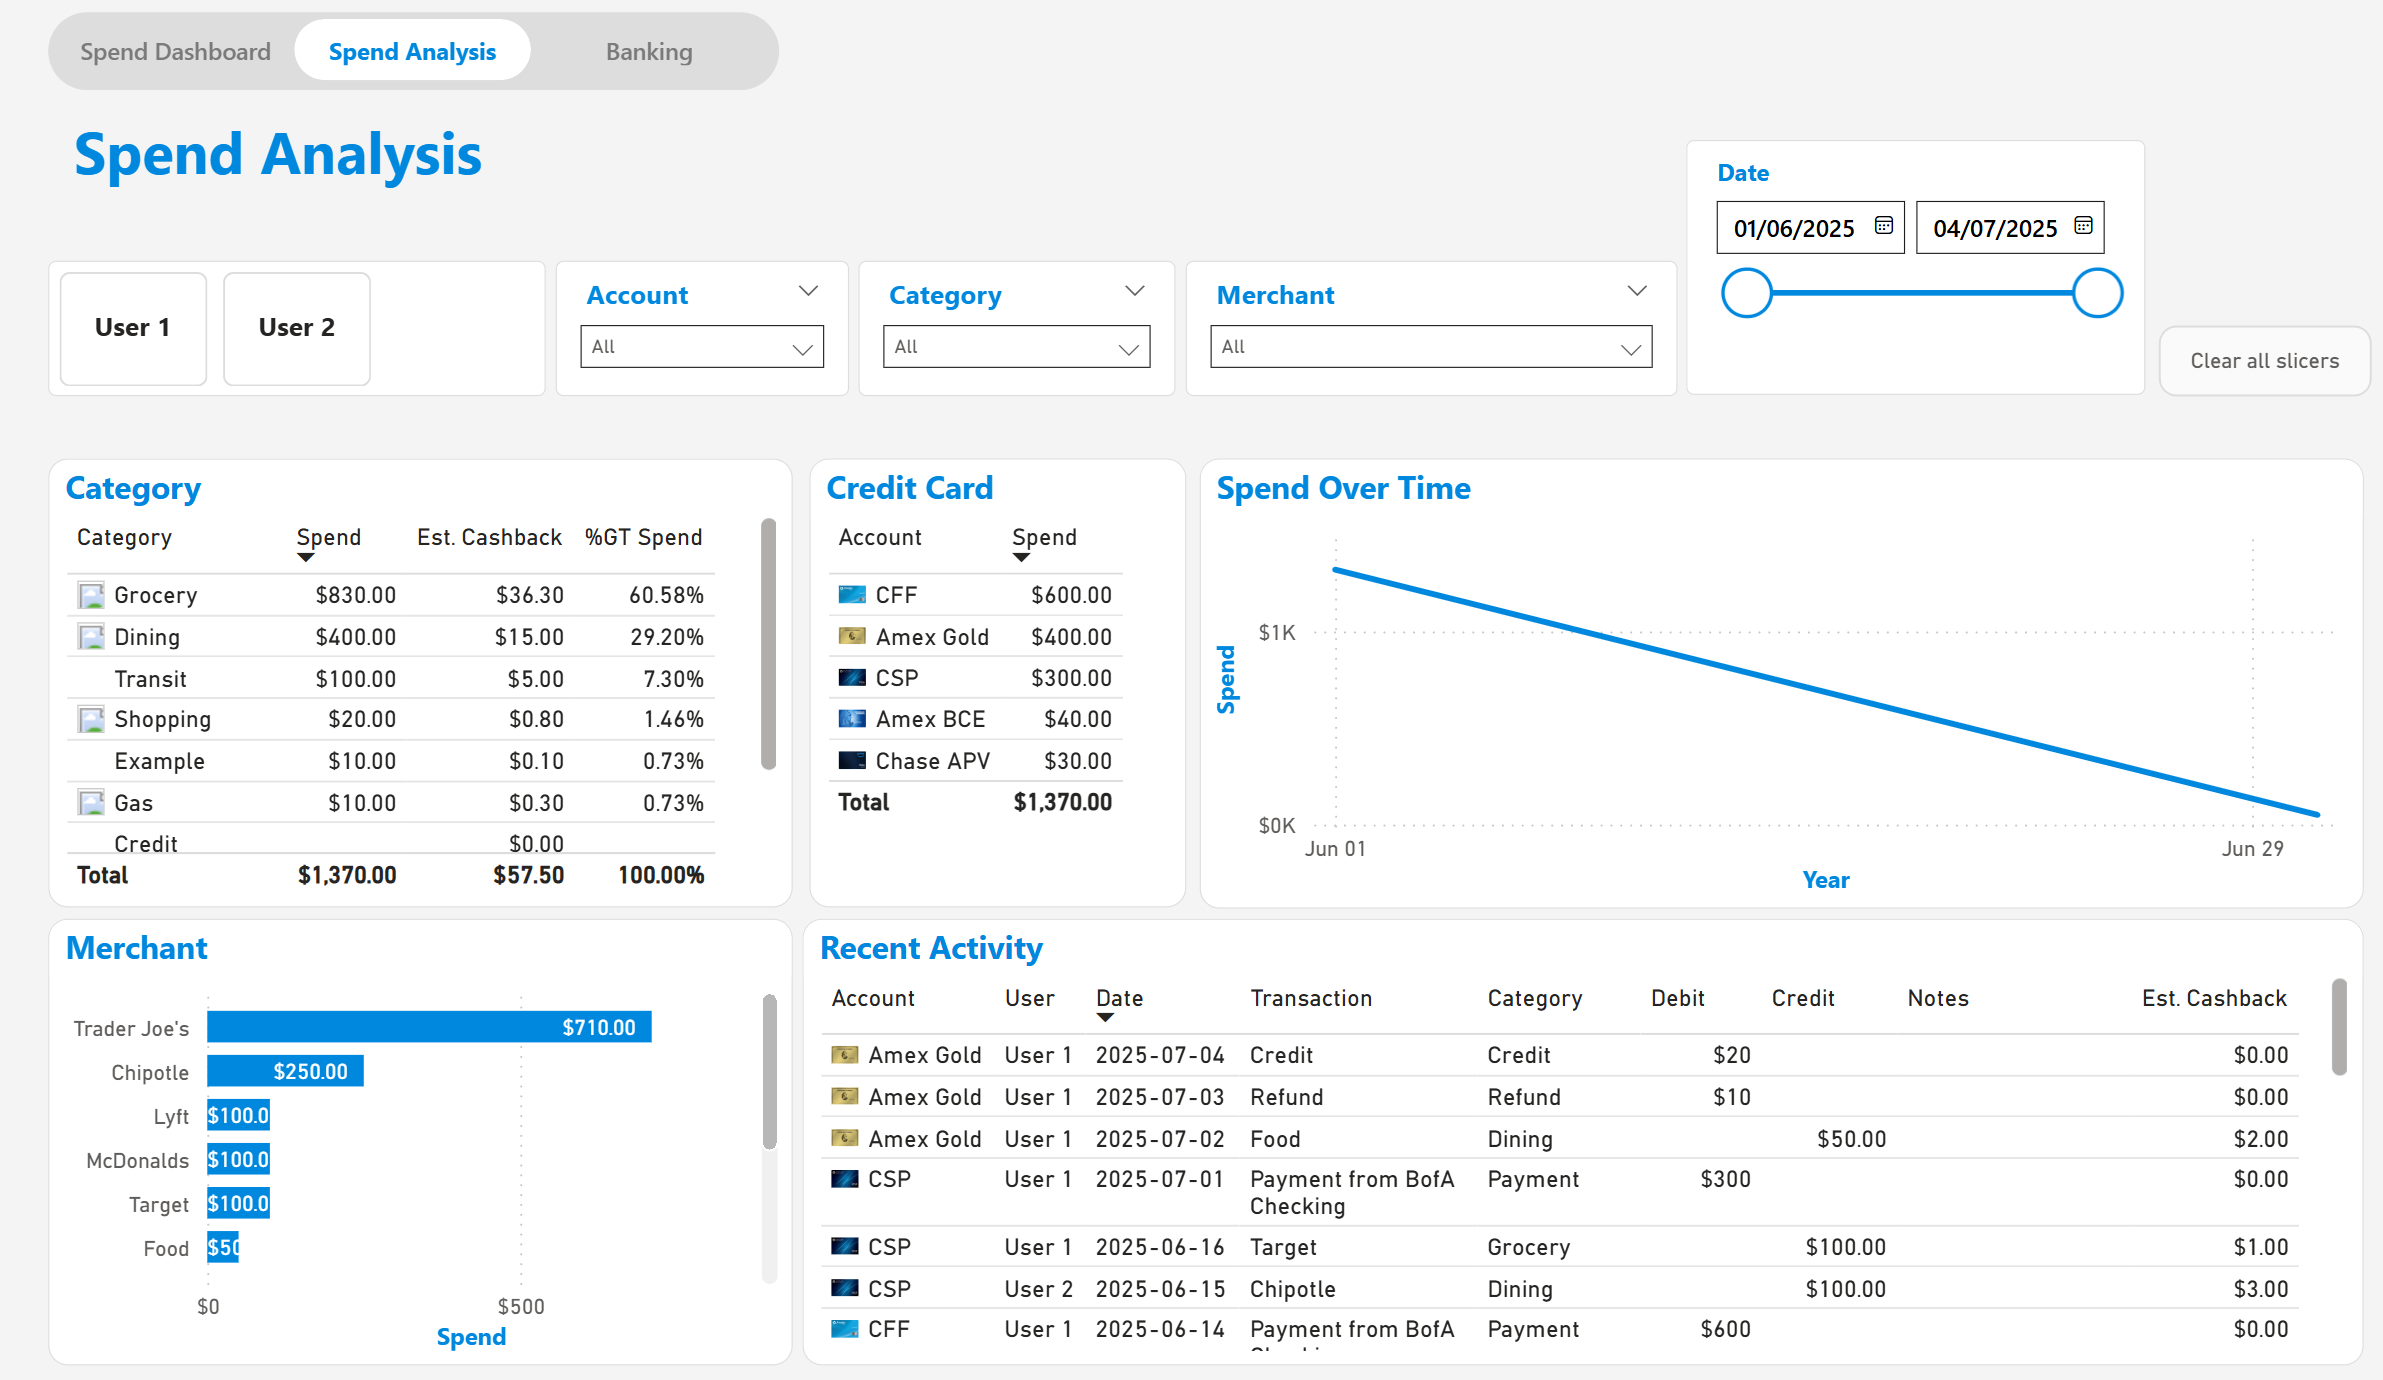

Layout of this report page (visuals, bound fields, positions):
{"tool":"powerbi","page":{"name":"Spend Analysis","canvas":[1280,720],"ordinal":1},"visuals":[{"type":"shape","box":[0,0,60.8,719.8],"z":0,"group":"g1"},{"type":"group","id":"g1","title":"Nav - Left Icons","box":[0,0,60.8,719.8],"z":1000},{"type":"image","title":"Image - Bank","box":[15.4,183.8,30,30],"z":1000,"group":"g1"},{"type":"textbox","title":"Spend Analysis","box":[99.5,64.1,362.5,47.1],"z":2000},{"type":"image","title":"Image - Analysis","box":[15.4,132.5,30,30],"z":2000,"group":"g1"},{"type":"pageNavigator","box":[91.5,13.2,370.5,39.5],"z":3000},{"type":"image","title":"Image - Home","box":[15.4,78.4,30,30],"z":3000,"group":"g1"},{"type":"slicer","fields":{"Values":["COMBINED Credit Cards.Transaction"]},"box":[667.2,139,249.2,68.5],"z":4000},{"type":"actionButton","box":[1160.7,171.9,107.9,36],"z":5000},{"type":"slicer","fields":{"Values":["COMBINED Credit Cards.Category"]},"box":[501.7,139.3,160.6,68.6],"z":6000},{"type":"slicer","fields":{"Values":["COMBINED Credit Cards.Account"]},"box":[348.5,139.3,148.6,68.6],"z":7000},{"type":"slicer","fields":{"Values":["Calendar.Date"]},"box":[921.4,78.4,232.3,129.1],"z":9000},{"type":"advancedSlicerVisual","fields":{"Values":["COMBINED Credit Cards.User"]},"box":[91.3,139.3,251.9,68.6],"z":10000},{"type":"tableEx","title":"Category","fields":{"Values":["COMBINED Credit Cards.Category","Sum(COMBINED Credit Cards.Credit)","Sum(COMBINED Credit Cards.Est. Cashback)","Divide(COMBINED Credit Cards.Spend, ScopedEval(COMBINED Credit Cards.Spend, []))"]},"box":[91.3,239.6,377.2,227.7],"z":11000},{"type":"tableEx","title":"Recent Activity","fields":{"Values":["COMBINED Tables.Account","COMBINED Credit Cards.User","COMBINED Credit Cards.Date","COMBINED Tables.Transaction","COMBINED Tables.Category","COMBINED Credit Cards.Debit","Sum(COMBINED Tables.Credit)","COMBINED Credit Cards.Notes","Sum(COMBINED Credit Cards.Est. Cashback)"]},"box":[473.1,472.4,790.9,226.5],"z":12000},{"type":"barChart","title":"Merchant","fields":{"Category":["COMBINED Credit Cards.Transaction"],"Y":["Sum(COMBINED Credit Cards.Credit)"]},"box":[91.6,472.5,376.9,226.4],"z":13000},{"type":"lineChart","title":"Spend Over Time","fields":{"Category":["Calendar.Date.Variation.Date Hierarchy.Year","Calendar.Date.Variation.Date Hierarchy.Month"],"Y":["Sum(COMBINED Credit Cards.Credit)"]},"box":[674.3,239.2,589.7,227.9],"z":14000},{"type":"tableEx","title":"Credit Card","fields":{"Values":["COMBINED Credit Cards.Account","Sum(COMBINED Credit Cards.Credit)"]},"box":[476.5,239.6,190.6,227.7],"z":15000},{"type":"textbox","title":"TEMPLATE FILE v2","box":[494.4,6,409,47],"z":16000}]}

Visuals, with their boxes in screenshot pixels (x1, y1, x2, y2), scaled from the page's 1280x720 canvas onto the 2383x1380 screenshot:
shape: pyautogui.locateOnScreen(0, 0, 113, 1379)
"Nav - Left Icons" group: pyautogui.locateOnScreen(0, 0, 113, 1379)
"Image - Bank" image: pyautogui.locateOnScreen(29, 352, 85, 410)
"Spend Analysis" textbox: pyautogui.locateOnScreen(185, 123, 860, 213)
"Image - Analysis" image: pyautogui.locateOnScreen(29, 254, 85, 311)
pageNavigator: pyautogui.locateOnScreen(170, 25, 860, 101)
"Image - Home" image: pyautogui.locateOnScreen(29, 150, 85, 208)
slicer - COMBINED Credit Cards.Transaction: pyautogui.locateOnScreen(1242, 266, 1706, 398)
actionButton: pyautogui.locateOnScreen(2161, 329, 2362, 398)
slicer - COMBINED Credit Cards.Category: pyautogui.locateOnScreen(934, 267, 1233, 398)
slicer - COMBINED Credit Cards.Account: pyautogui.locateOnScreen(649, 267, 925, 398)
slicer - Calendar.Date: pyautogui.locateOnScreen(1715, 150, 2148, 398)
advancedSlicerVisual - COMBINED Credit Cards.User: pyautogui.locateOnScreen(170, 267, 639, 398)
"Category" tableEx: pyautogui.locateOnScreen(170, 459, 872, 896)
"Recent Activity" tableEx: pyautogui.locateOnScreen(881, 905, 2353, 1340)
"Merchant" barChart: pyautogui.locateOnScreen(171, 906, 872, 1340)
"Spend Over Time" lineChart: pyautogui.locateOnScreen(1255, 458, 2353, 895)
"Credit Card" tableEx: pyautogui.locateOnScreen(887, 459, 1242, 896)
"TEMPLATE FILE v2" textbox: pyautogui.locateOnScreen(920, 12, 1682, 102)
